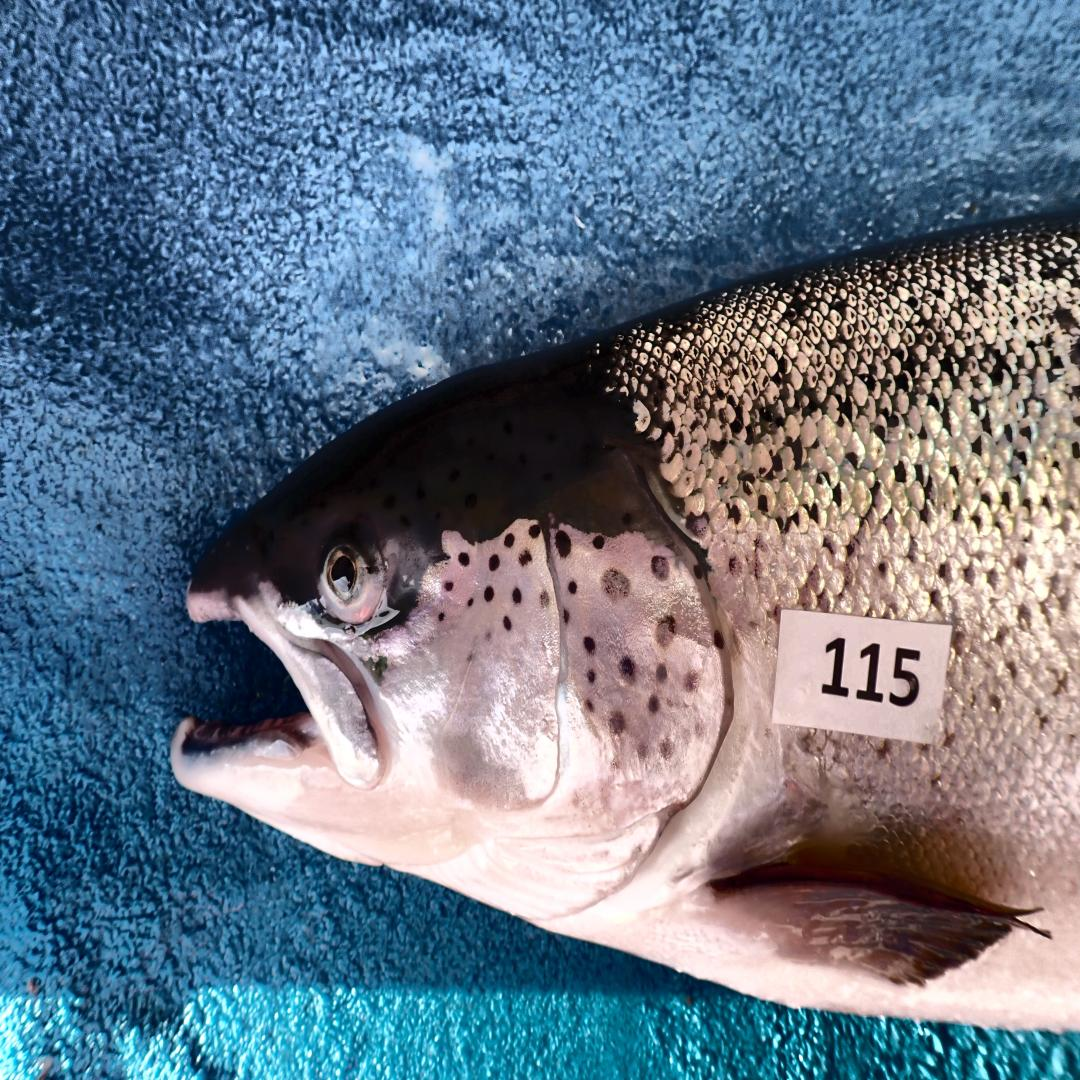spot: (601, 568, 631, 599), (656, 613, 677, 650), (658, 734, 679, 762), (608, 709, 626, 737), (555, 529, 572, 557), (650, 554, 669, 579), (683, 669, 700, 692), (692, 720, 711, 740), (635, 740, 652, 762), (620, 655, 635, 678), (690, 562, 707, 582), (510, 585, 523, 605), (713, 630, 726, 650), (656, 664, 669, 683), (561, 605, 572, 627), (648, 695, 660, 714), (610, 757, 622, 773), (489, 554, 500, 571), (519, 551, 532, 565), (529, 523, 542, 537), (584, 636, 595, 652), (593, 534, 605, 548), (504, 534, 515, 548), (502, 616, 513, 630), (485, 585, 494, 602), (458, 551, 468, 565), (540, 591, 548, 608), (567, 582, 578, 593), (466, 596, 475, 608), (443, 582, 454, 591), (468, 650, 475, 664), (437, 610, 445, 622), (586, 700, 593, 712), (589, 669, 595, 683), (485, 630, 491, 641)
